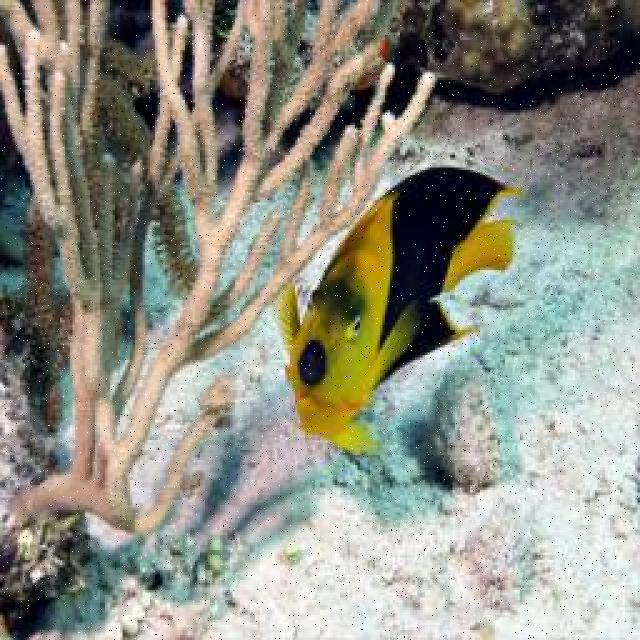fish: (277, 164, 526, 461)
reefs: (0, 0, 438, 531)
